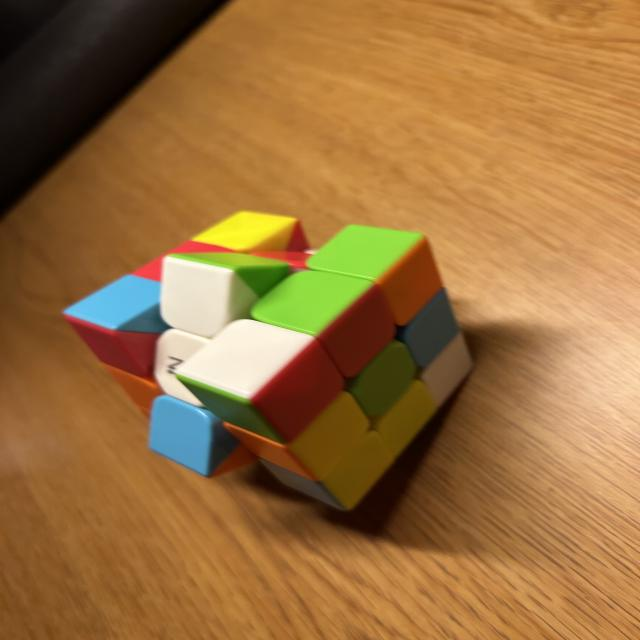Rubiks Cube: (61, 210, 474, 510)
